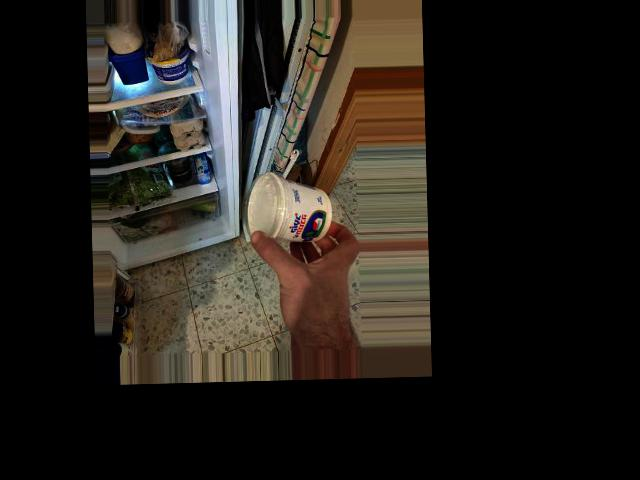cotage: (248, 172, 336, 251)
